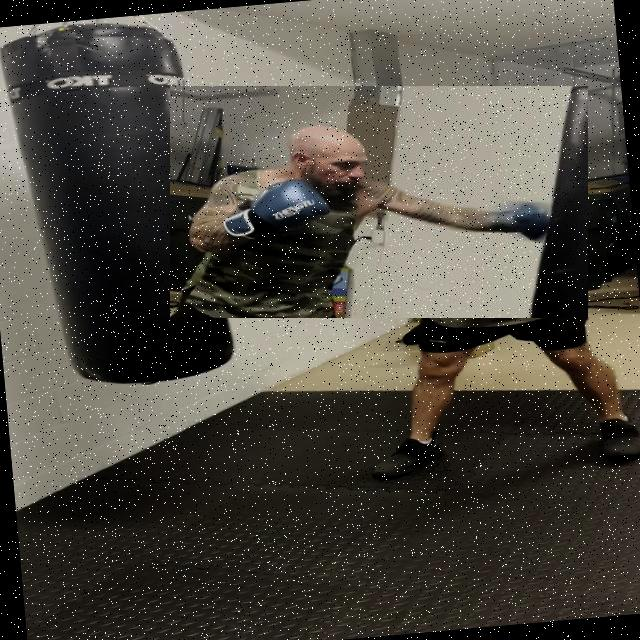punch: (170, 86, 588, 318)
